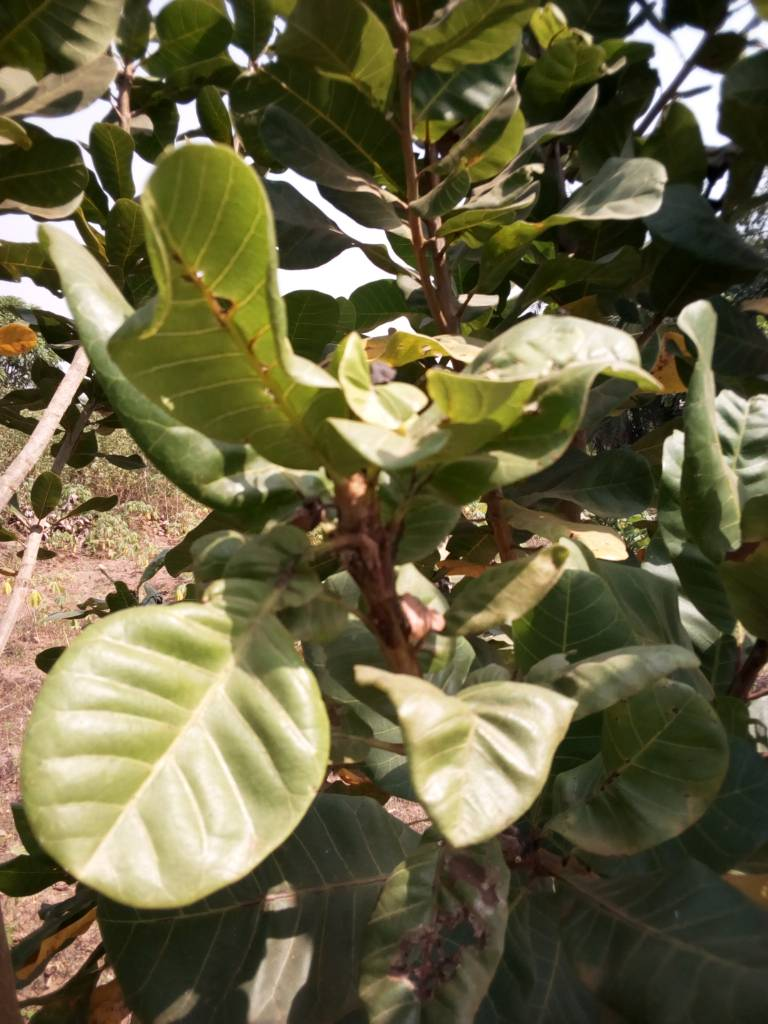Helopeltis anacardii: (104, 141, 344, 475), (544, 683, 727, 849), (368, 660, 525, 847), (675, 289, 761, 560)
